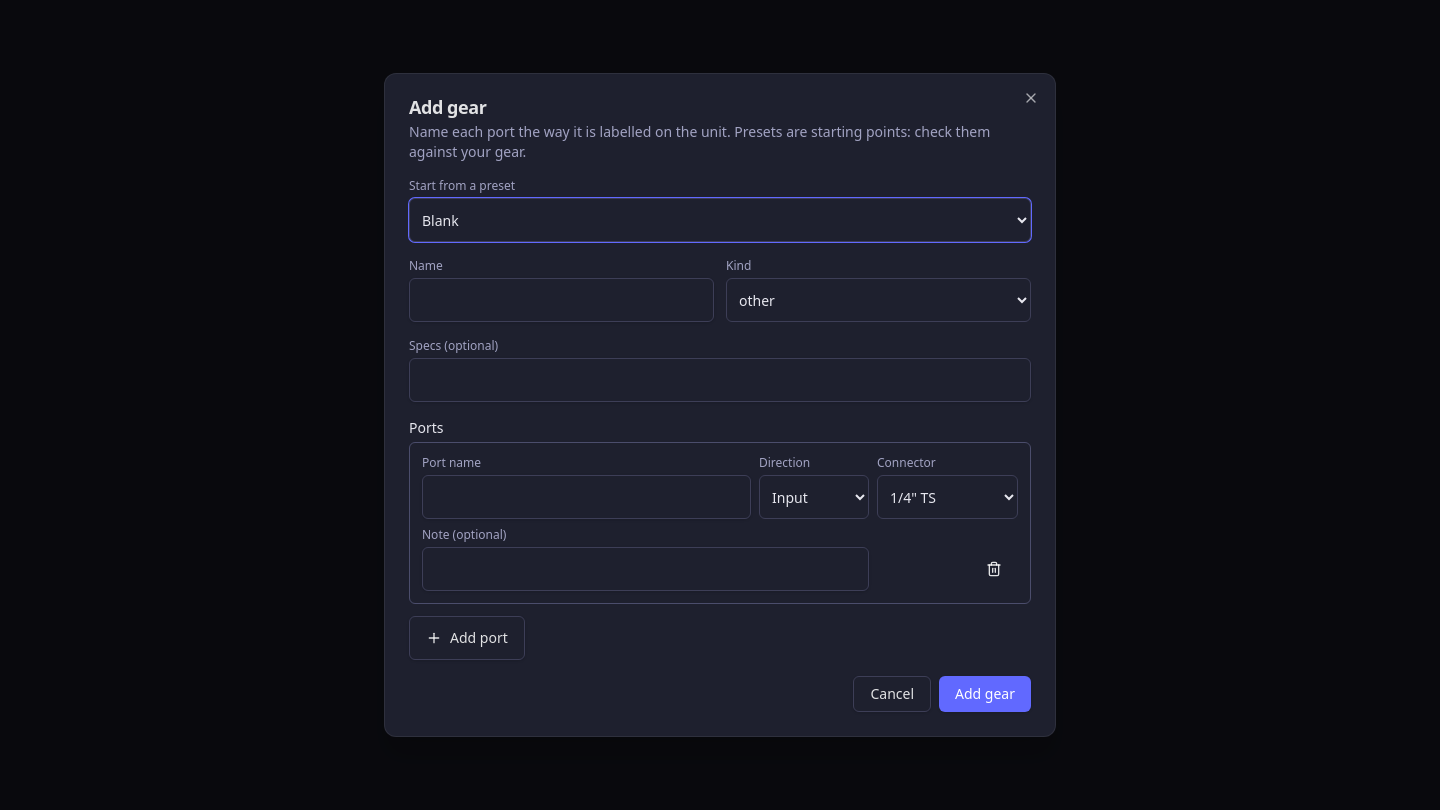
it: GearFormDialog: adding › refuses a missing name, an unnamed port, and no ports, without saving
Click the button "Add gear" at (985, 694), box 939,676 -> 1031,712
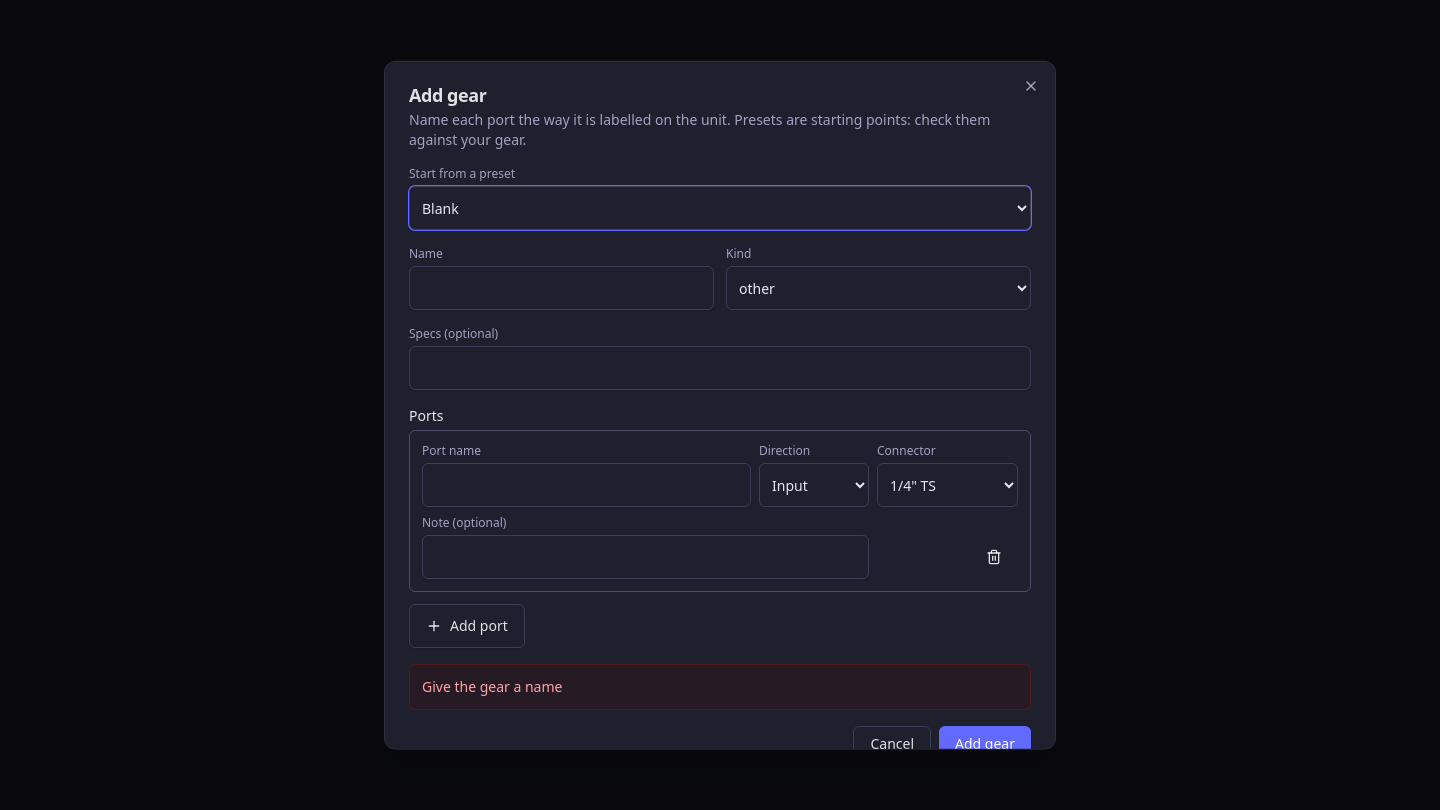
Expected: the message reads "Give the gear a name", 422,677 -> 562,696
Type "Box" into the field labelled "Name" at (562, 288), box 409,266 -> 714,310
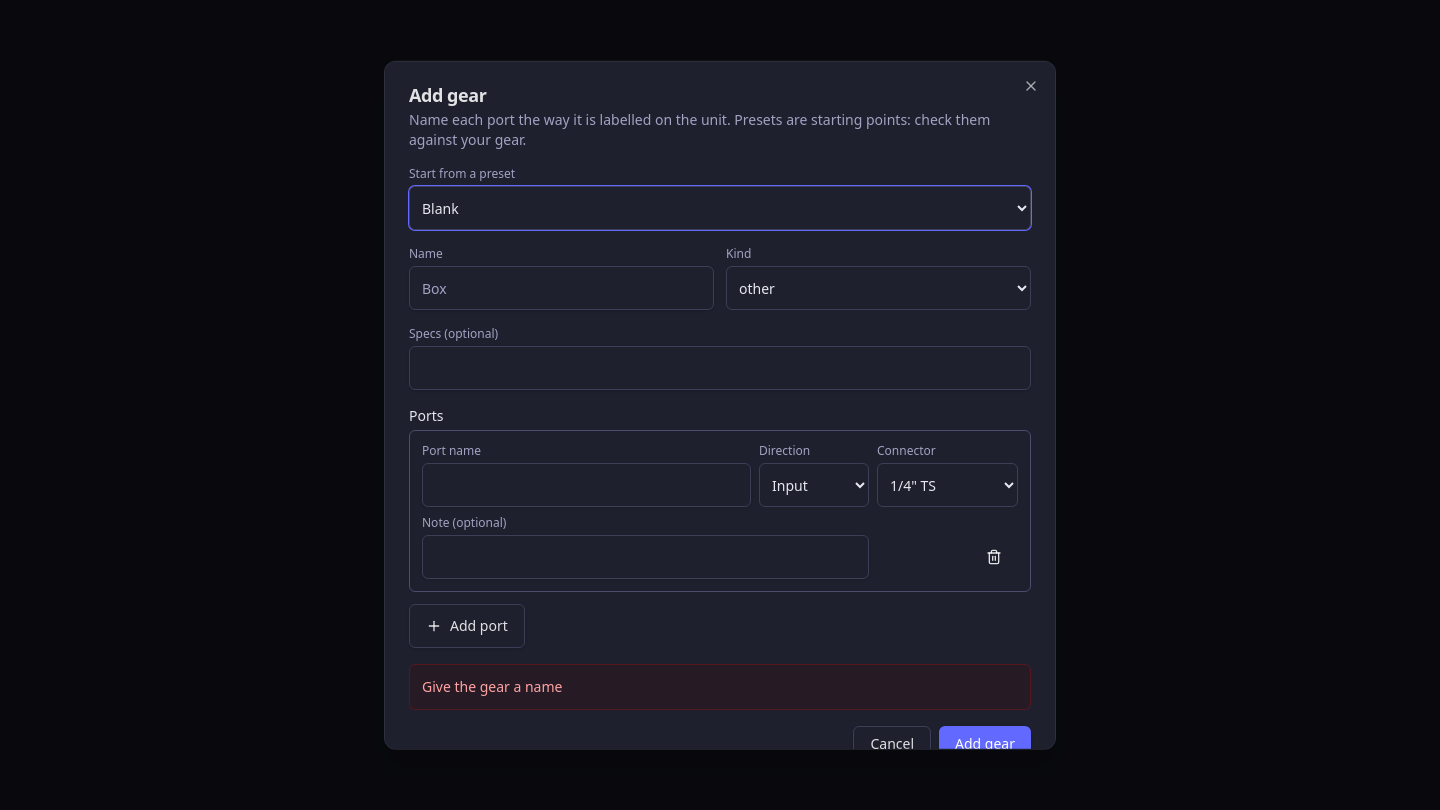
Click the button "Add gear" at (985, 744), box 939,726 -> 1031,762
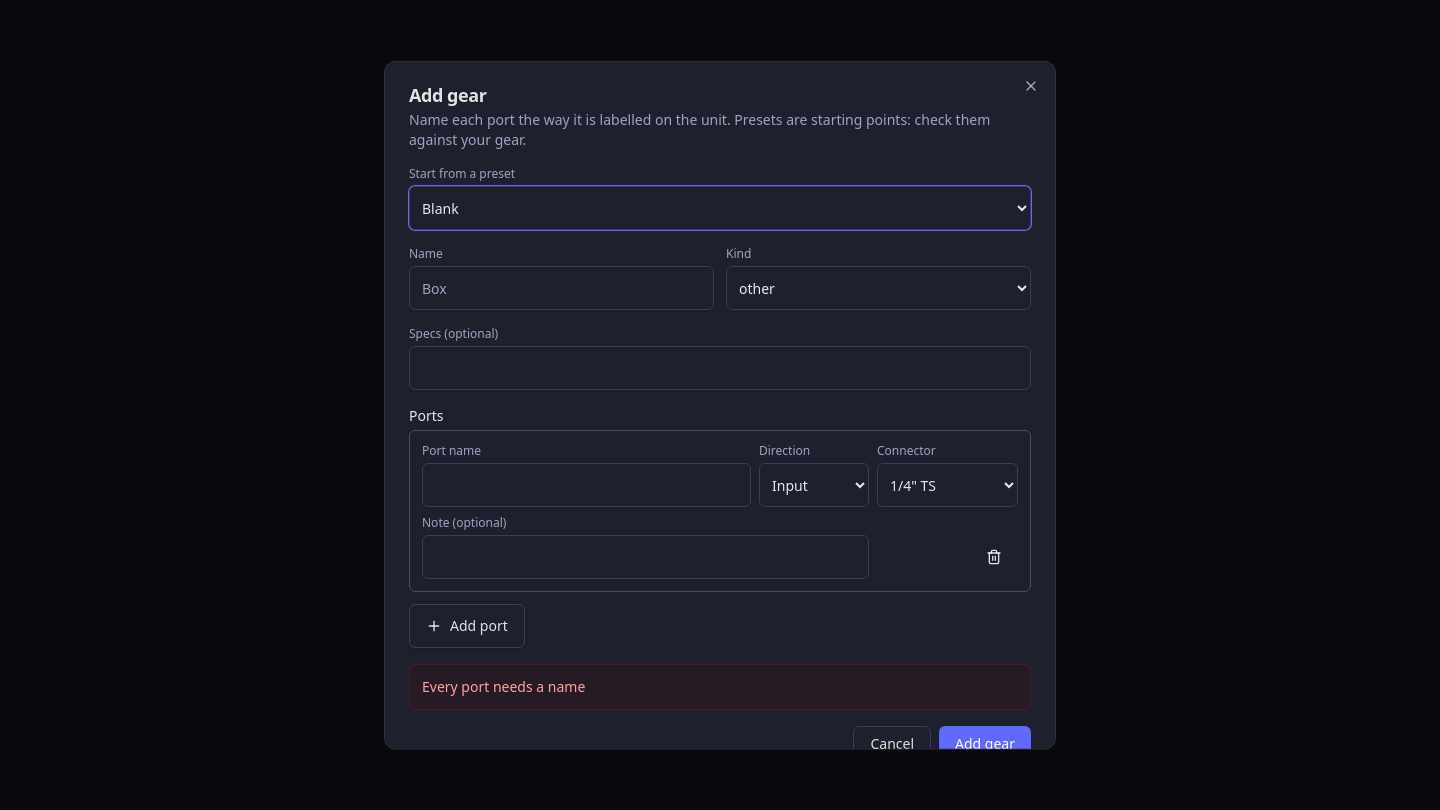
Expected: the message reads "Every port needs a name", 422,677 -> 585,696
Click the button named "Remove port 1" at (994, 557), box 970,535 -> 1018,579
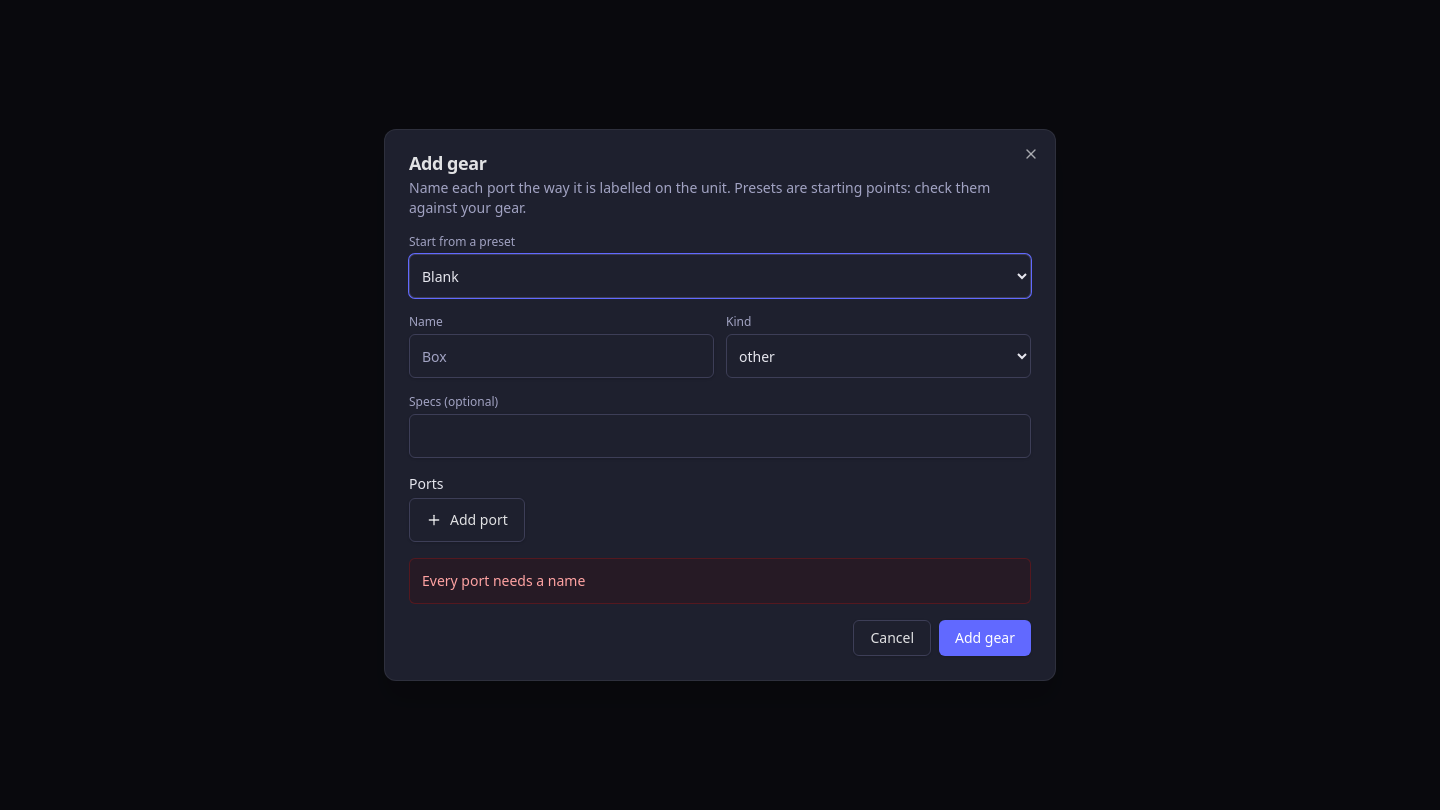
Click the button "Add gear" at (985, 638), box 939,620 -> 1031,656
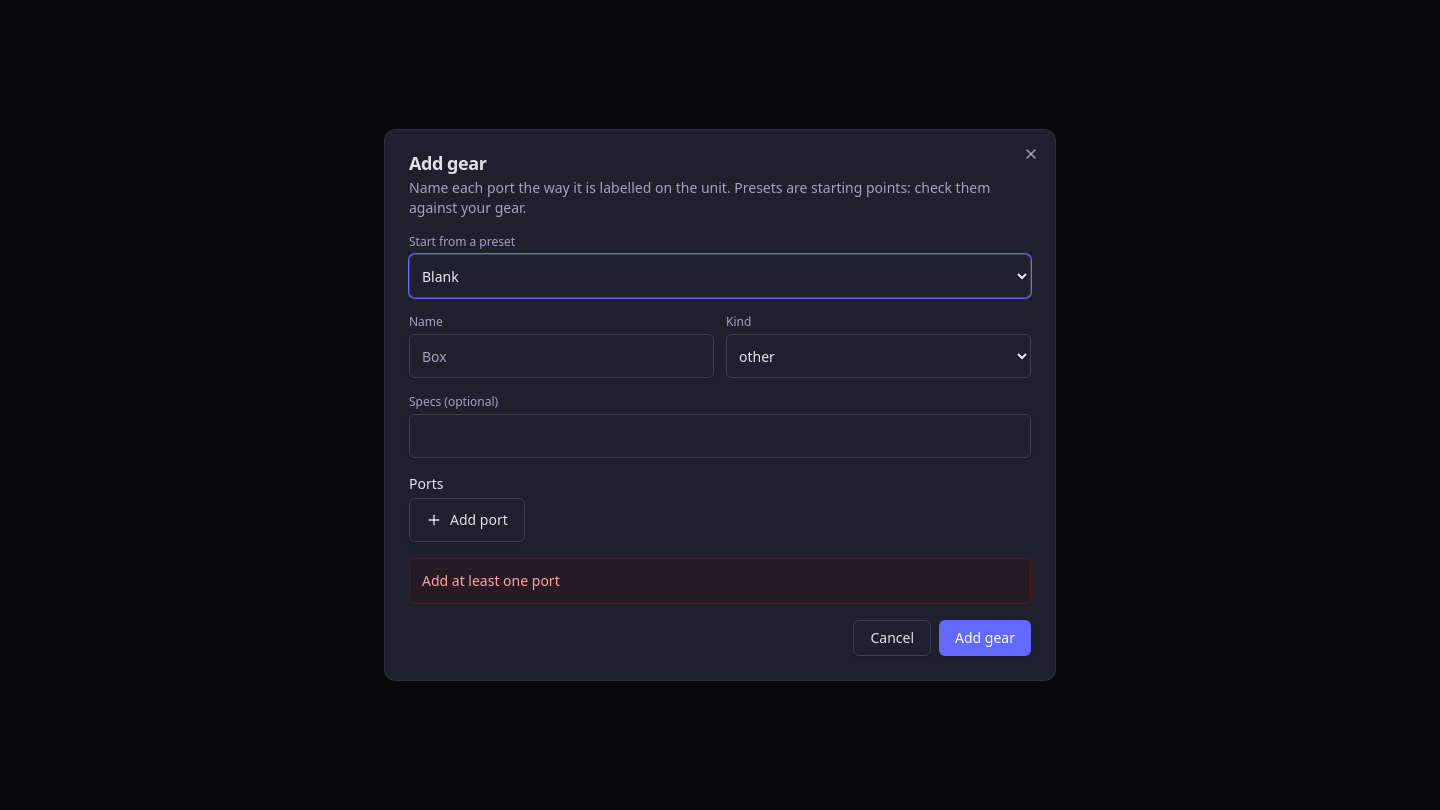
Expected: the message reads "Add at least one port", 422,571 -> 560,590
